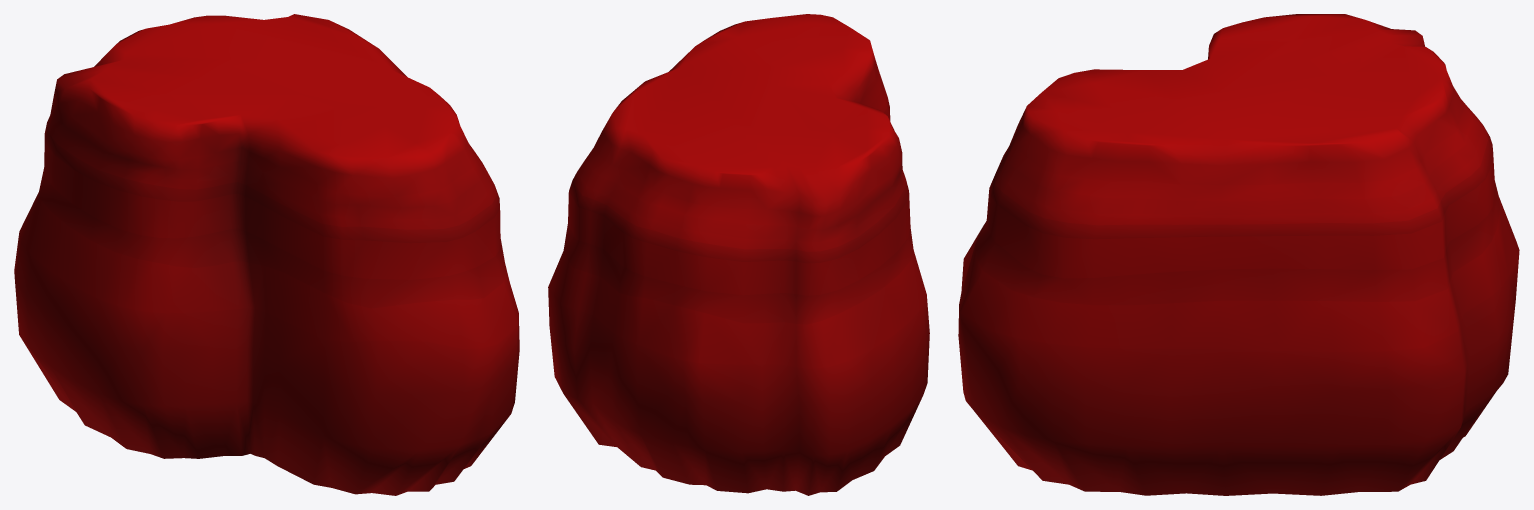
Rendered from geology-landforms-sandstonemesamedium_v2.fbx.
The picture shows the model from 3 angles, left to right: view 1: azimuth 30°, elevation 25°; view 2: azimuth 150°, elevation 25°; view 3: azimuth 270°, elevation 25°; orthographic projection. The views are drawn at different scales.
Parts seen in each view (by area): view 1: SandStoneMesaMedium_v2; view 2: SandStoneMesaMedium_v2; view 3: SandStoneMesaMedium_v2.
Boxes of the visible parts, x1,y1,x2,y2 form: SandStoneMesaMedium_v2: (14, 14, 519, 495); SandStoneMesaMedium_v2: (548, 14, 929, 495); SandStoneMesaMedium_v2: (958, 14, 1519, 495).
Size of the model in its own units: 32.47 by 29.91 by 43.95.
